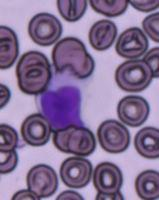M: (35, 72, 93, 130)
